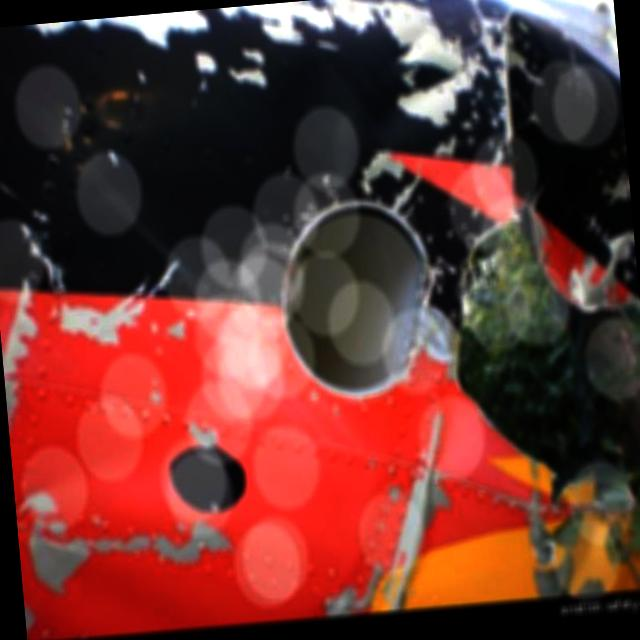dent: (364, 80, 408, 137)
